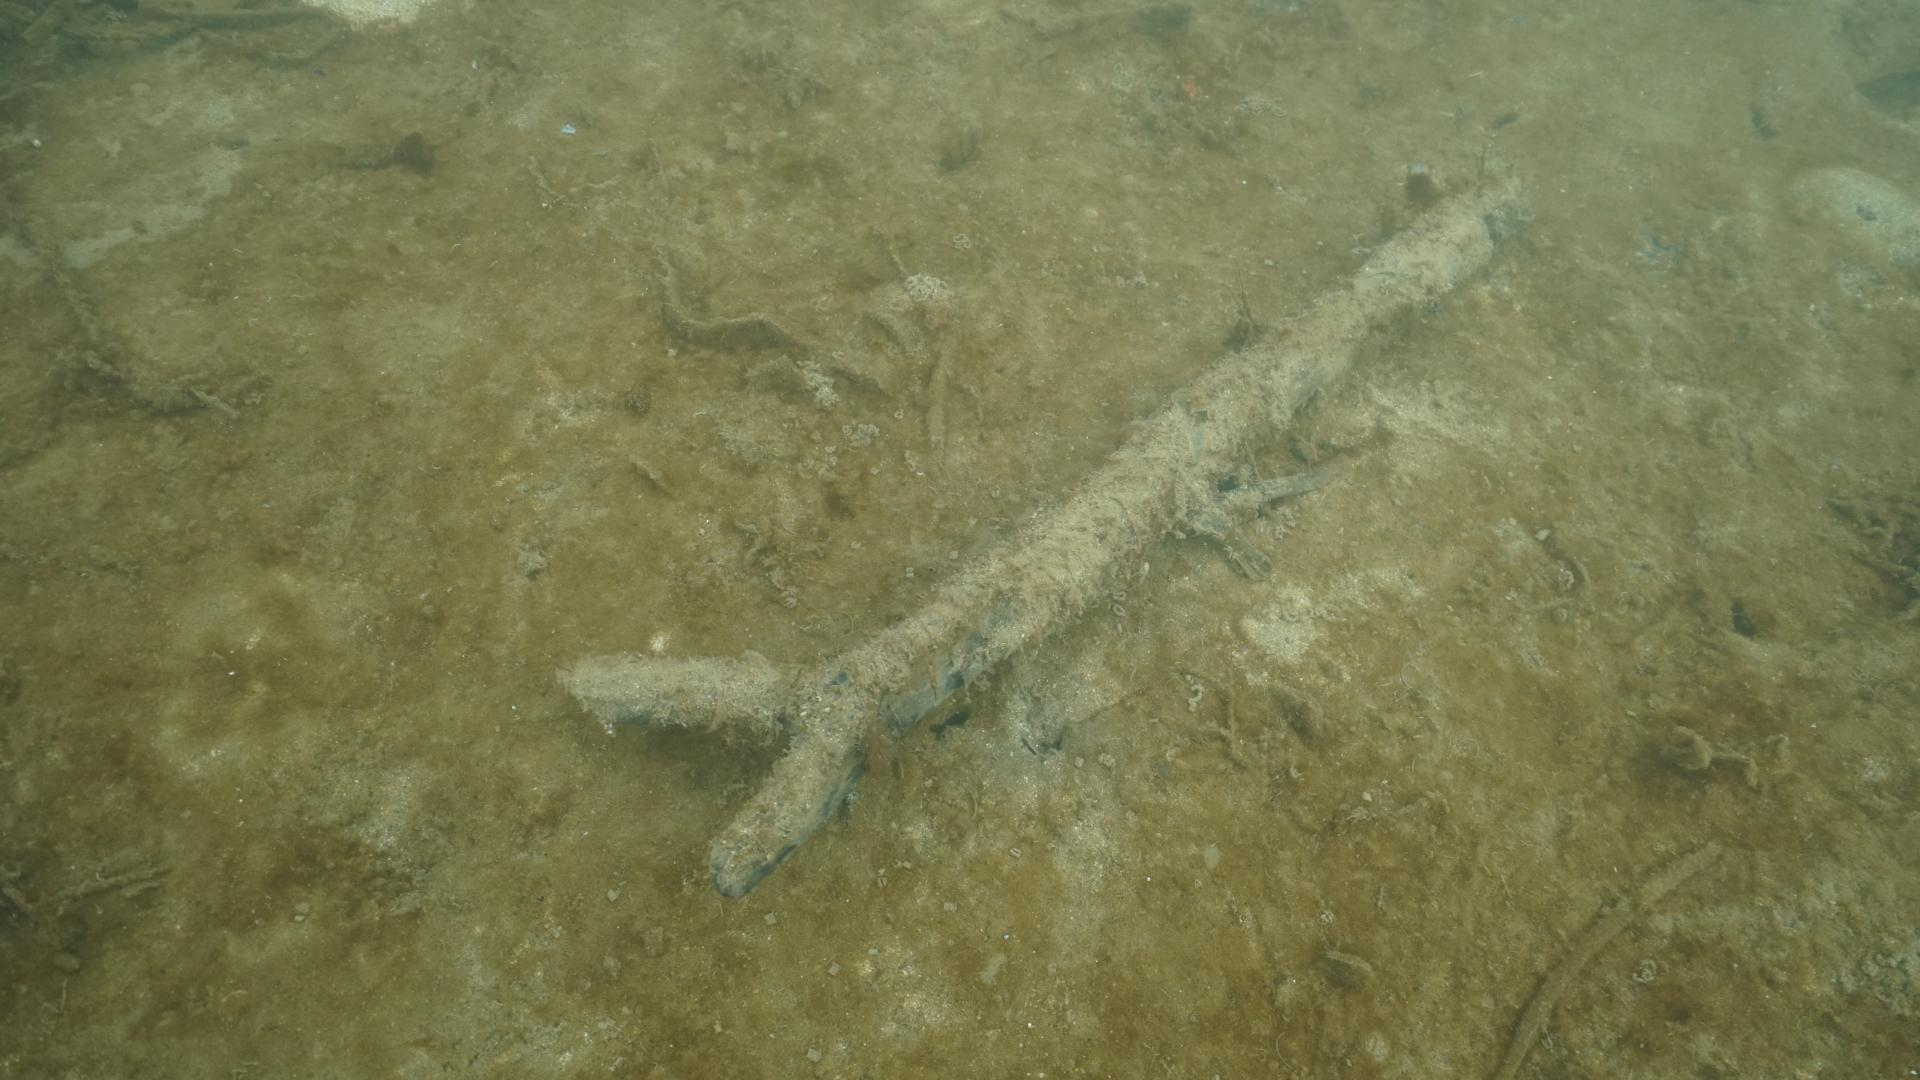wood: (554, 164, 1526, 895)
